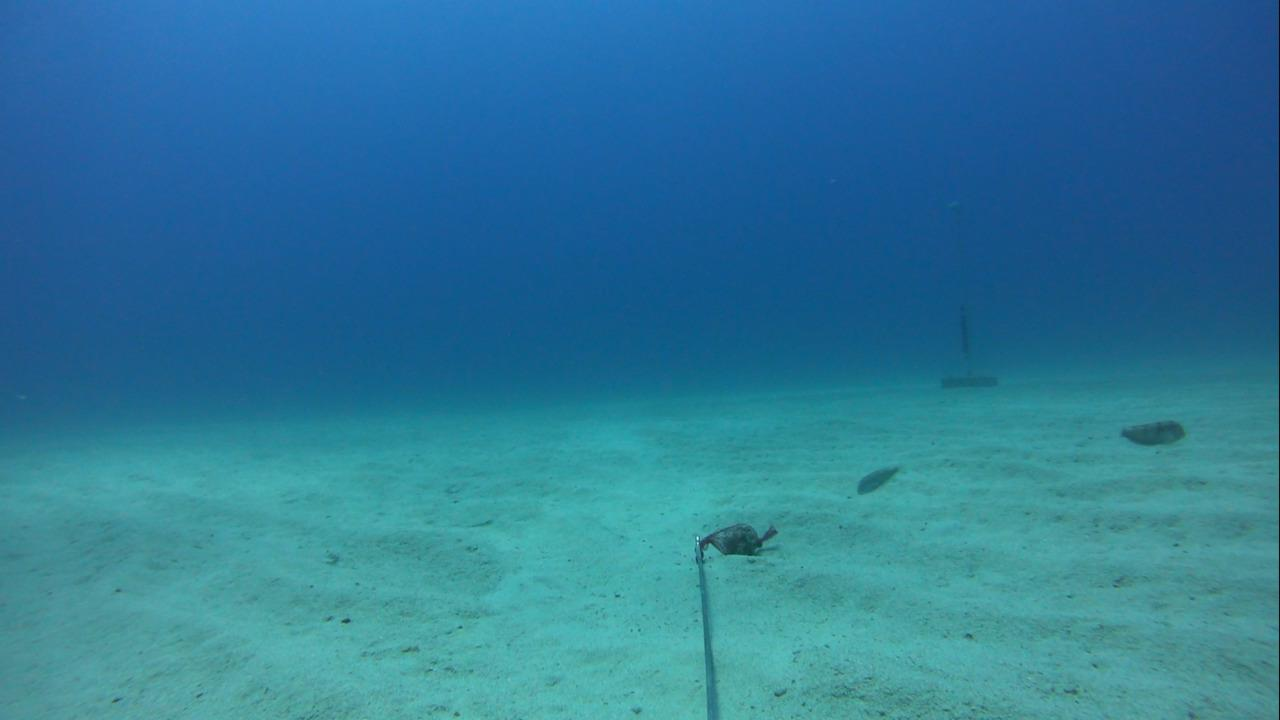raor: (845, 458, 915, 506), (1107, 412, 1195, 450)
